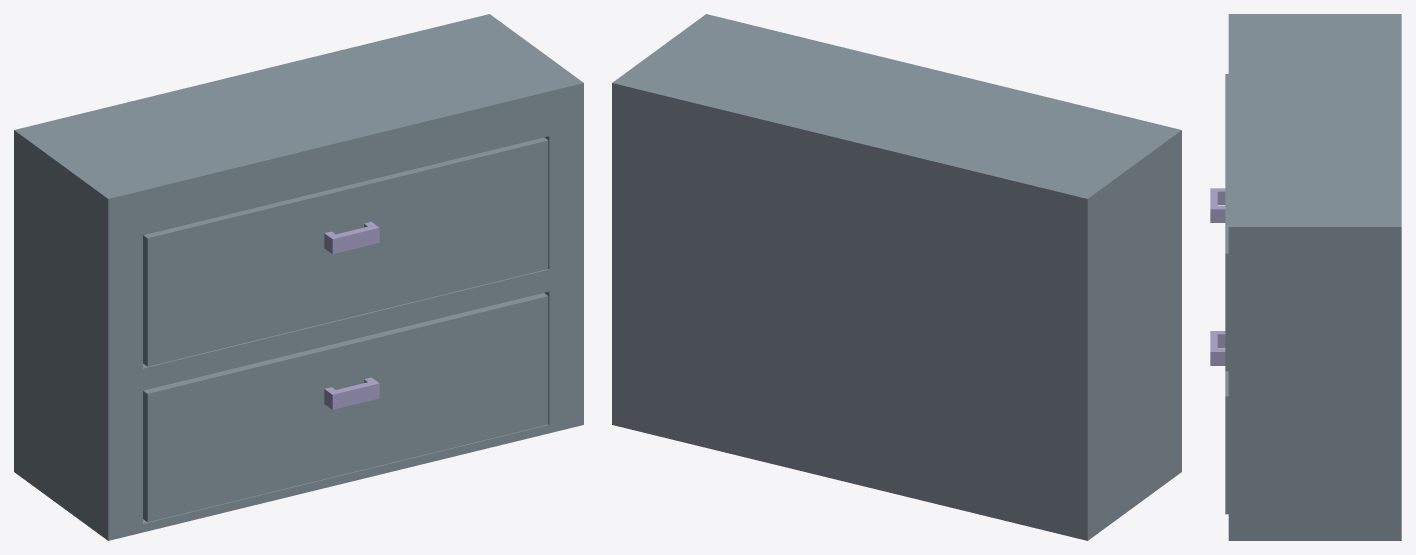
The model's file is Shelve.fbx.
3 renders of one model, left to right at view 1: azimuth 30°, elevation 25°; view 2: azimuth 150°, elevation 25°; view 3: azimuth 270°, elevation 25°, orthographic. The views are drawn at different scales.
Visible parts, largest first — view 1: Cube.235; view 2: Cube.235; view 3: Cube.235.
Part boxes in pixels (x1=…): Cube.235: x1=14, y1=14, x2=583, y2=540; Cube.235: x1=612, y1=14, x2=1181, y2=540; Cube.235: x1=1210, y1=14, x2=1401, y2=540.
Size of the model in its own units: 583 by 400 by 221.
